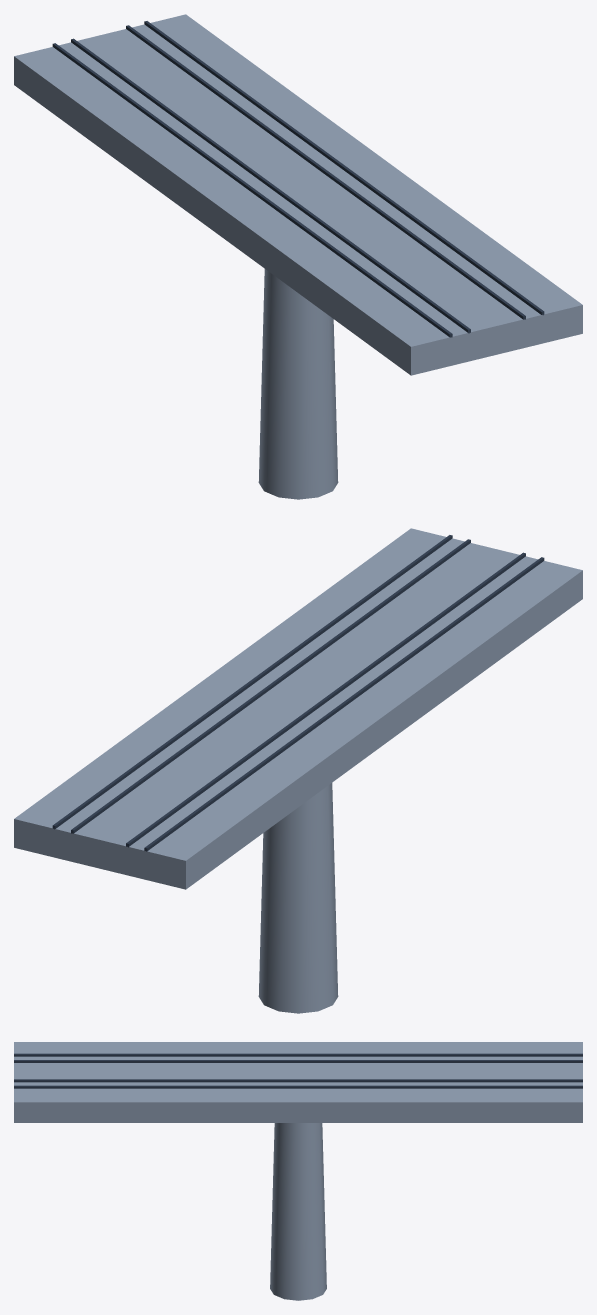
Rendered from metro_viaduct_track.glb.
3 views of the same model, one above another, from view 1: azimuth 30°, elevation 25°; view 2: azimuth 150°, elevation 25°; view 3: azimuth 270°, elevation 25° (orthographic). The views are drawn at different scales.
Parts seen in each view (by area): view 1: MetroViaductTrack; view 2: MetroViaductTrack; view 3: MetroViaductTrack.
Part boxes in pixels (x1,y1,x2,y2): MetroViaductTrack: [14, 14, 582, 499]; MetroViaductTrack: [14, 528, 582, 1013]; MetroViaductTrack: [14, 1042, 582, 1300].
Size of the model in its own units: 7.5 by 12.73 by 30.
